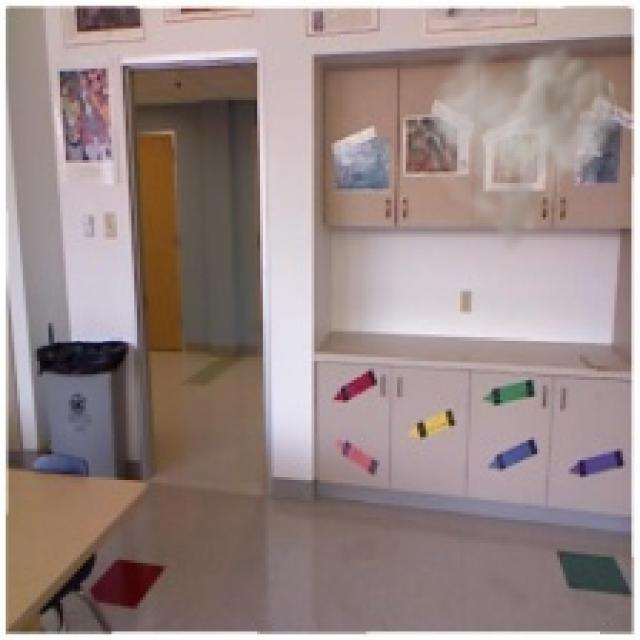Smoke: (420, 22, 634, 258)
